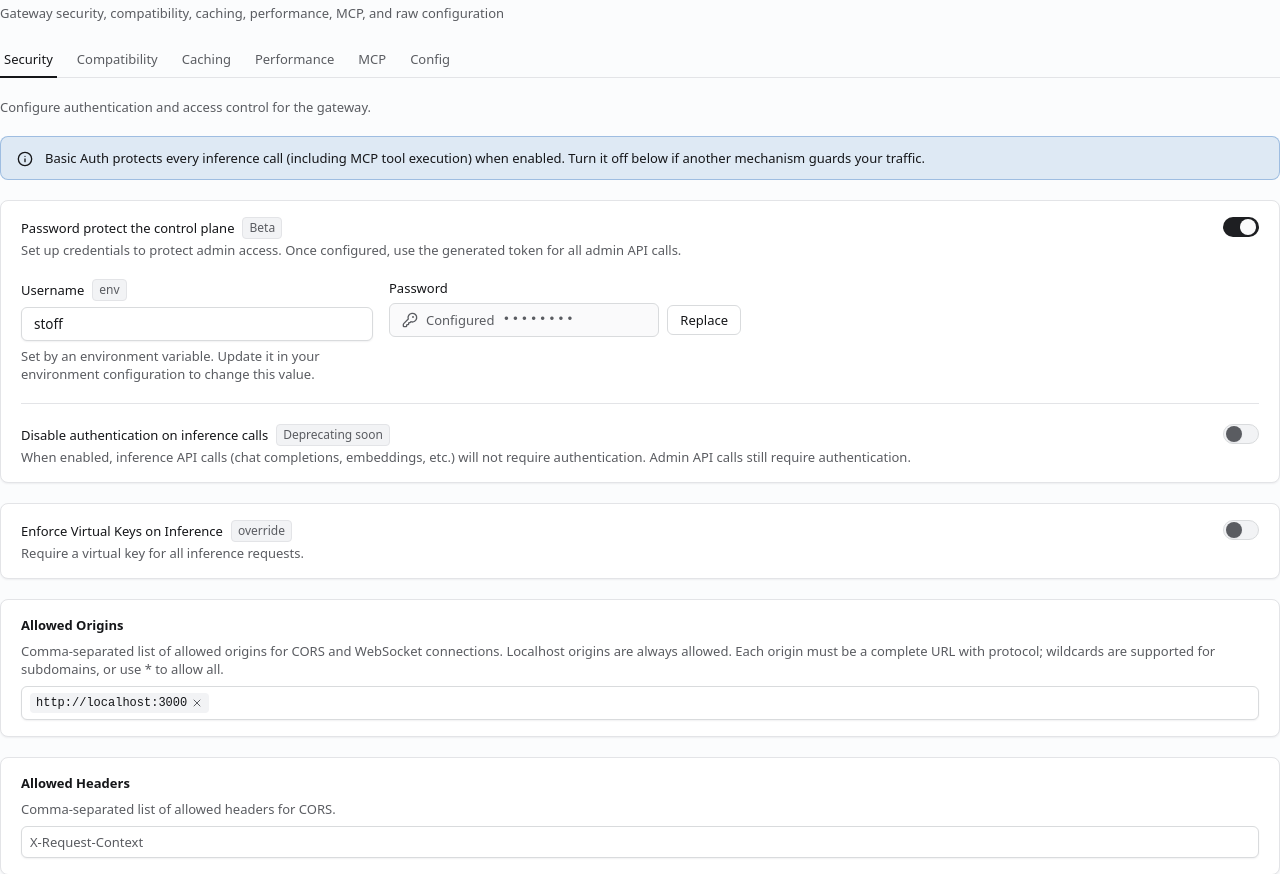
Scenario: SettingsView security (write-only password + provenance) › saves only the changed field (no untouched password re-sent)
Click the switch named "Enforce Virtual Keys on Inference": (1241,530) x1=1223 y1=520 x2=1259 y2=540
(page scrolled)
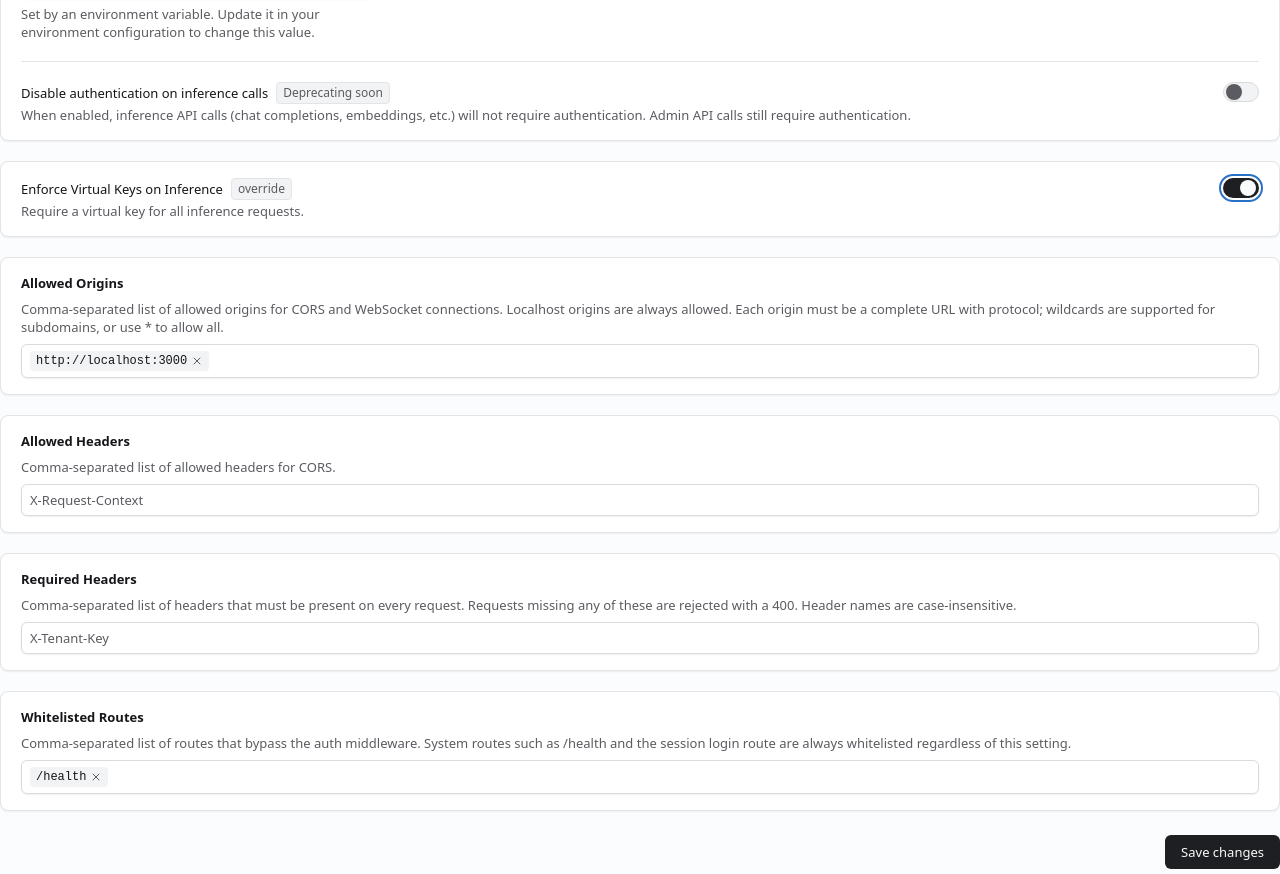
Click the button "Save changes": (1223,852) x1=1165 y1=835 x2=1279 y2=869
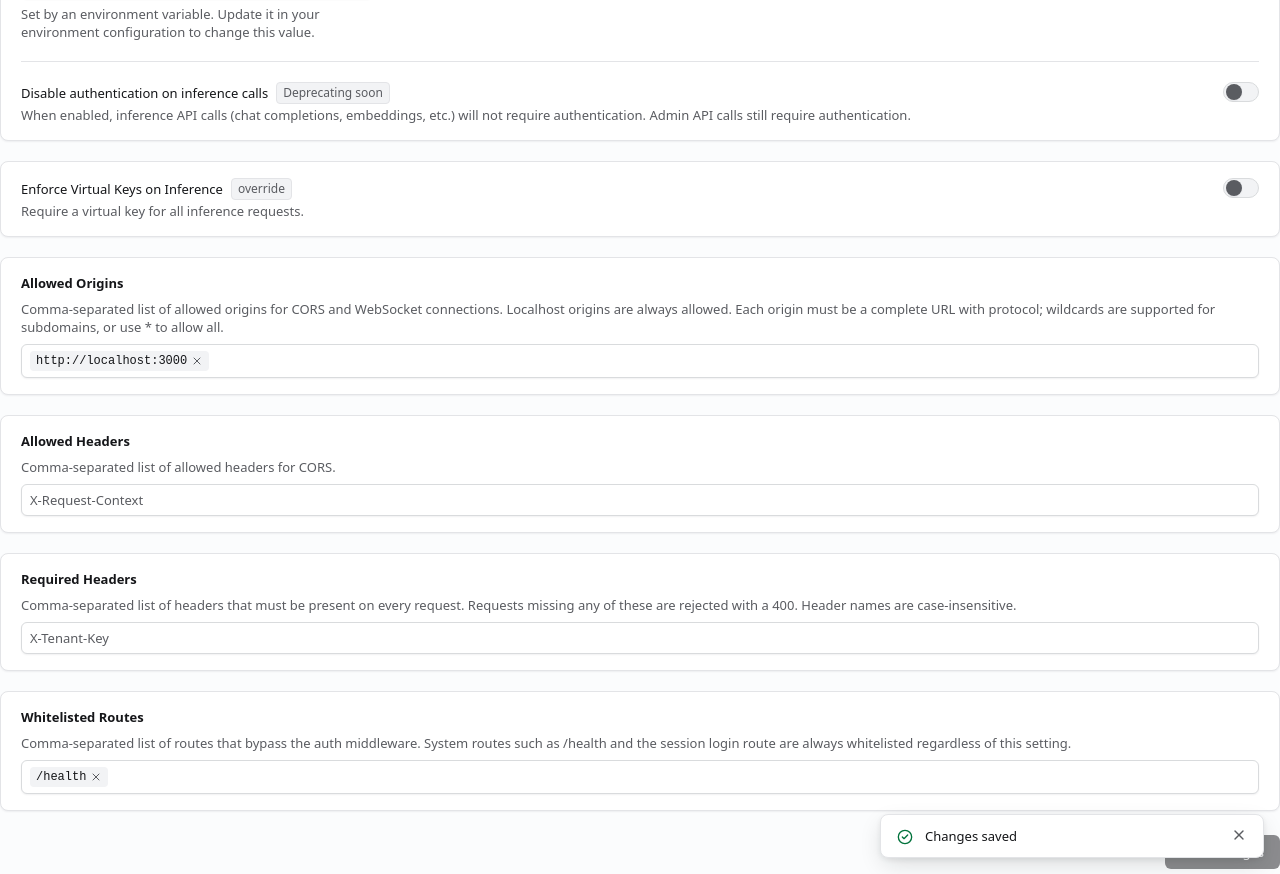
expect the text "Changes saved" is shown: met, box x1=925 y1=827 x2=1017 y2=845
